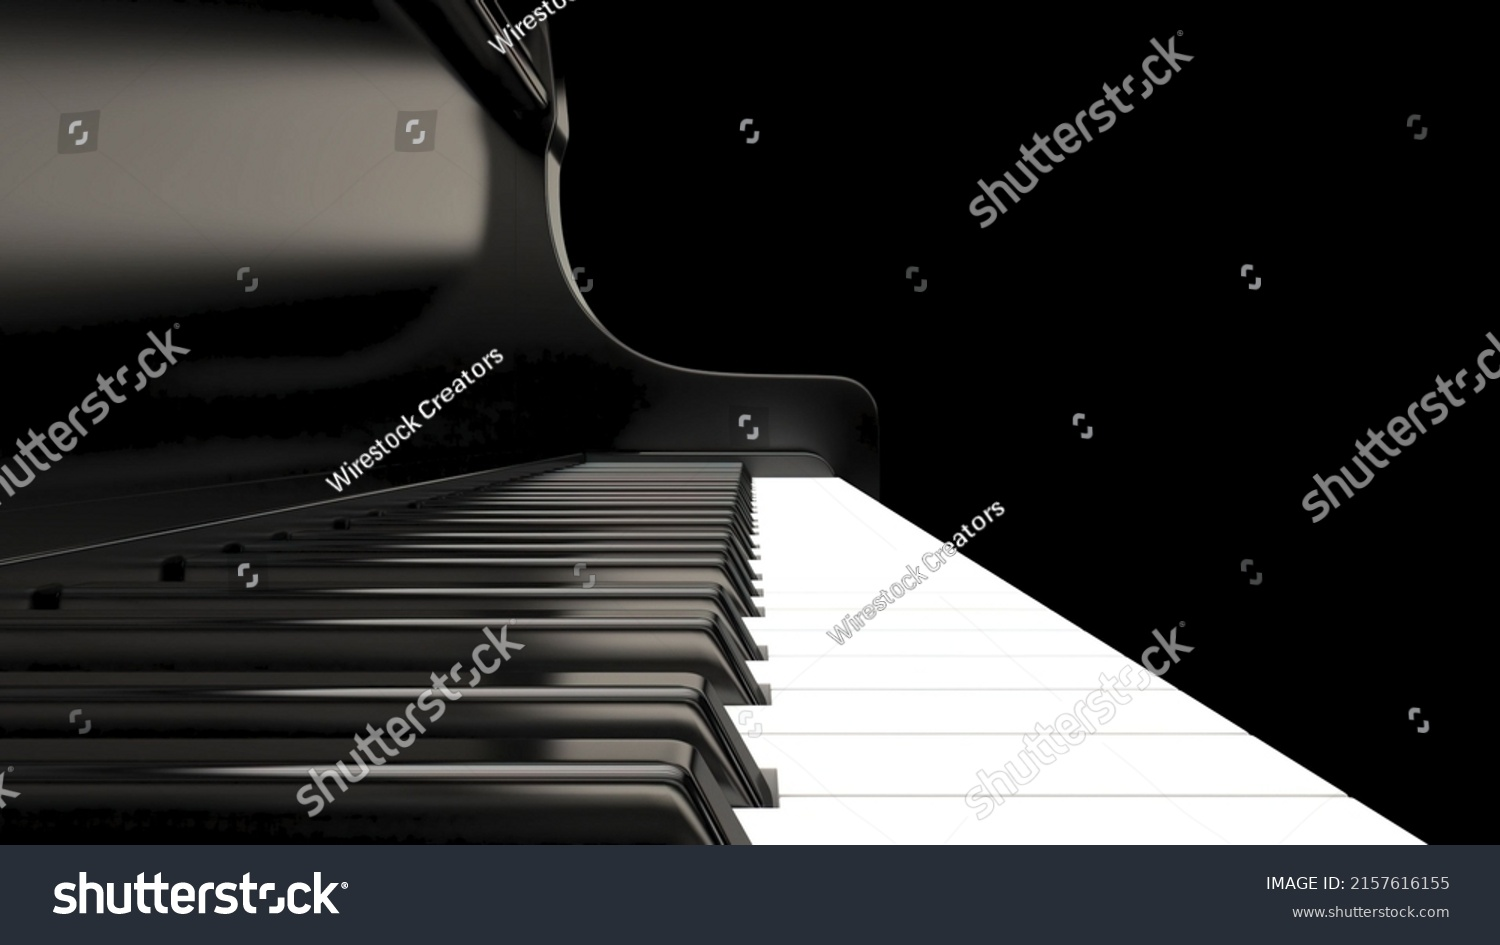Piano: (1, 309, 1456, 945)
